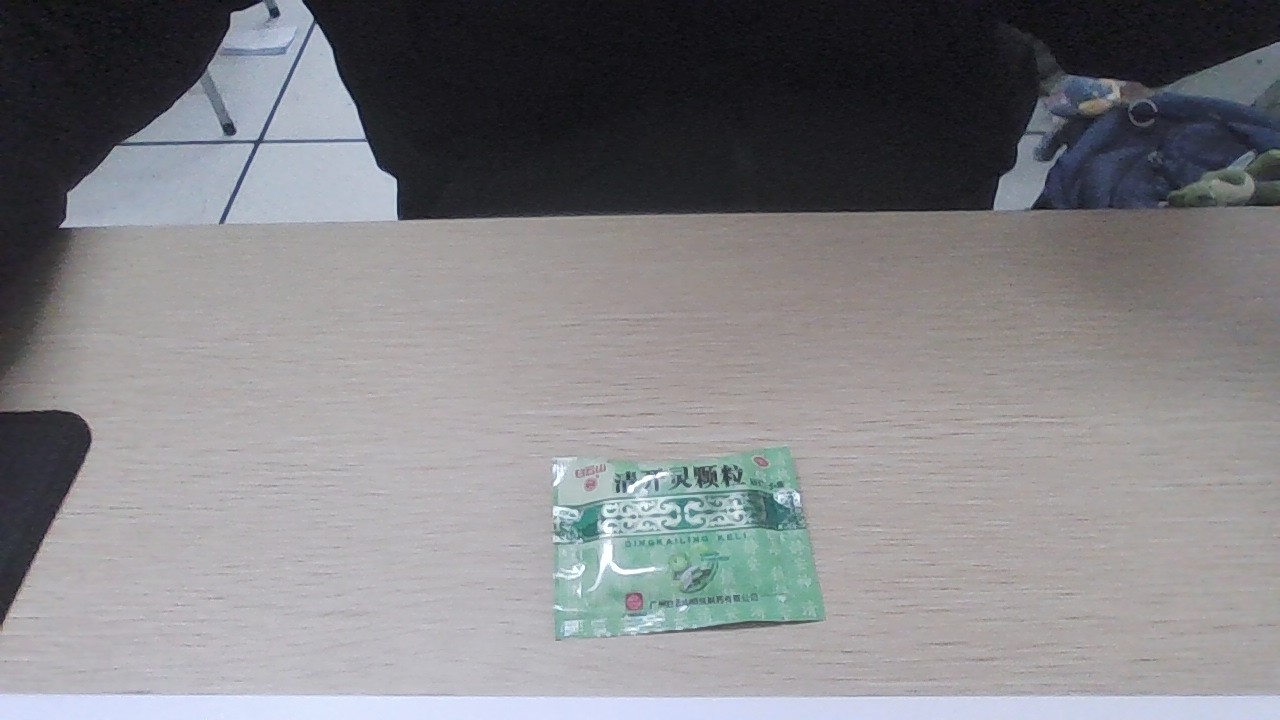YH-green medicine: (546, 455, 820, 626)
